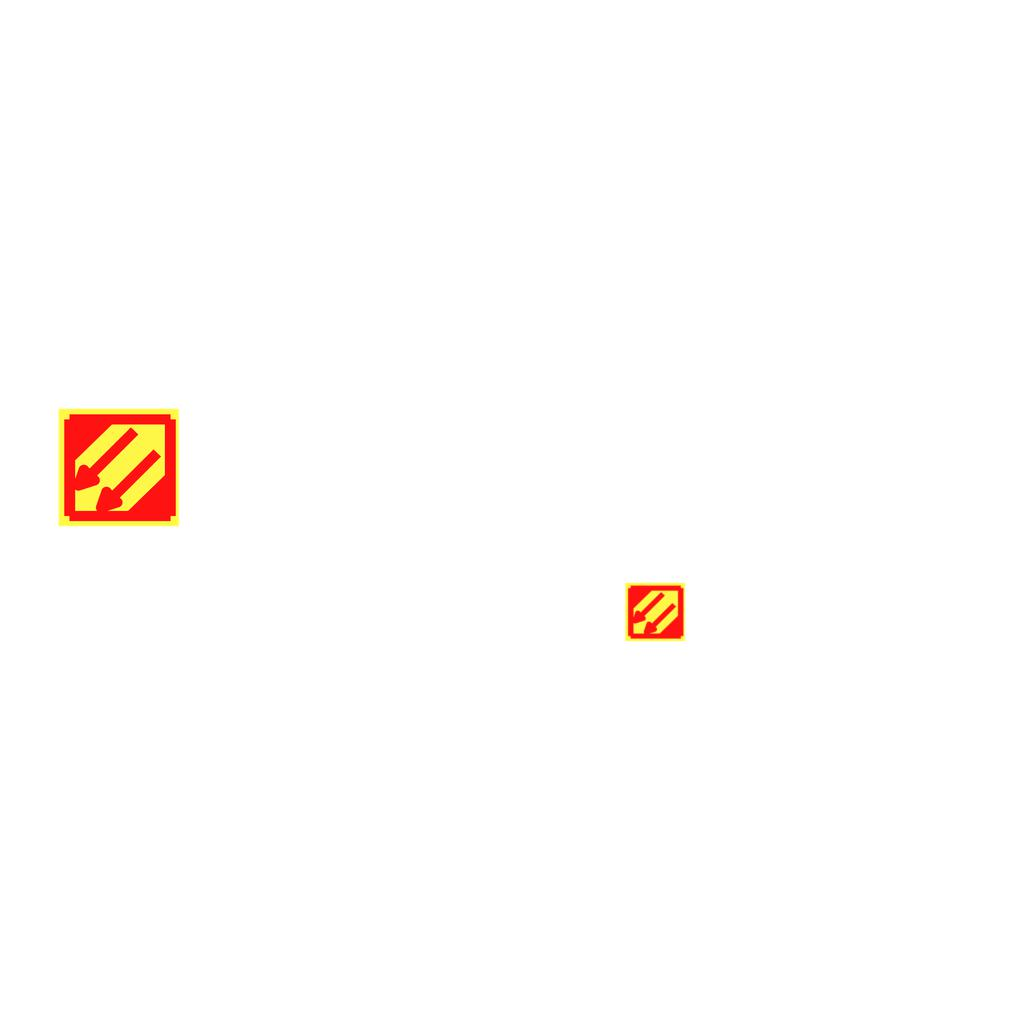ASR_Ansaugrauchmelder: (56, 405, 181, 530), (624, 581, 686, 643)
